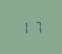one: (19, 20, 30, 34)
seven: (31, 19, 42, 33)
